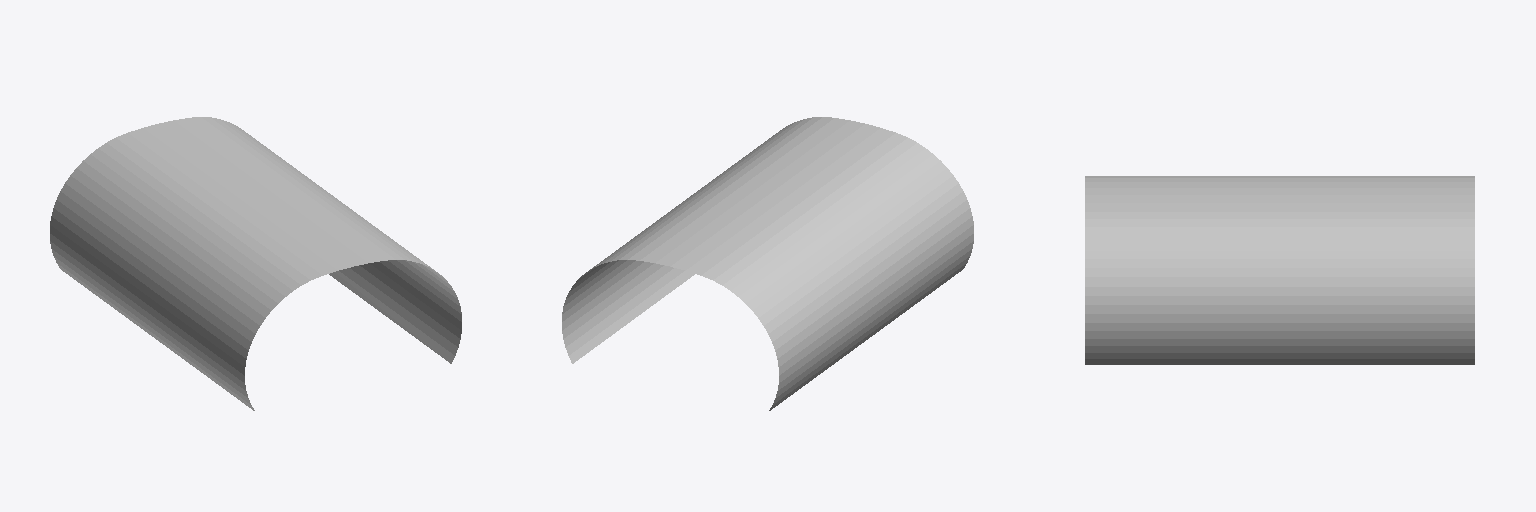
File: tunnel.obj
3 views of the same model, side by side, from view 1: azimuth 30°, elevation 25°; view 2: azimuth 150°, elevation 25°; view 3: azimuth 270°, elevation 25° (orthographic).
Parts seen in each view (by area): view 1: Cylinder; view 2: Cylinder; view 3: Cylinder.
Boxes of the visible parts, x1=… form: Cylinder: x1=50, y1=117, x2=461, y2=410; Cylinder: x1=562, y1=117, x2=973, y2=410; Cylinder: x1=1085, y1=176, x2=1474, y2=364.
Bounding box in the file's own units: 3.86 × 2.06 × 6.